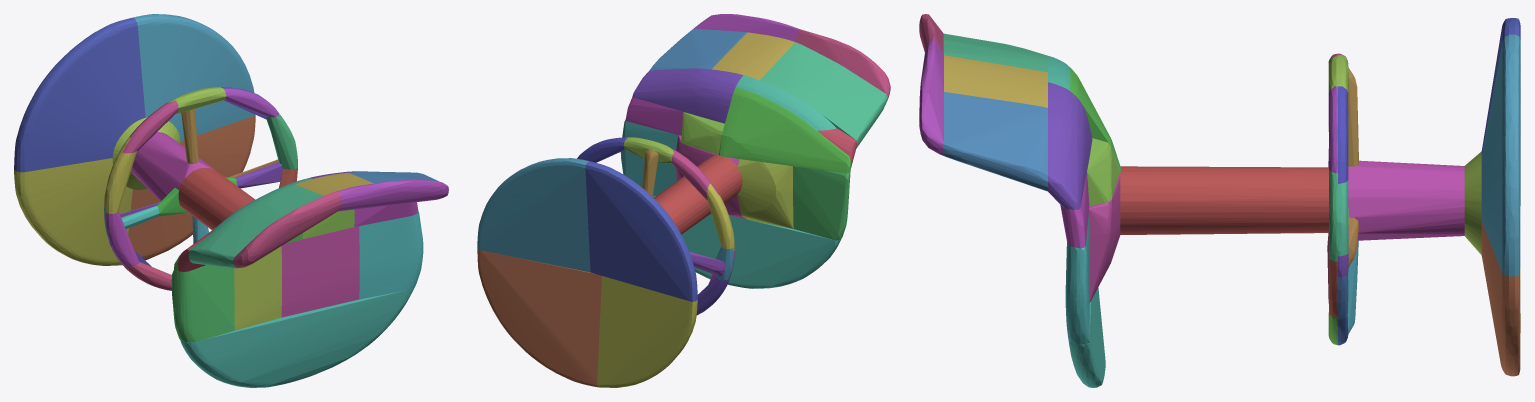
Rendered from hulls.glb.
3 views of the same model, side by side, from view 1: azimuth 30°, elevation 25°; view 2: azimuth 150°, elevation 25°; view 3: azimuth 270°, elevation 25° (orthographic). The views are drawn at different scales.
Bounding box in the file's own units: 0.5353 × 0.5115 × 0.842.
